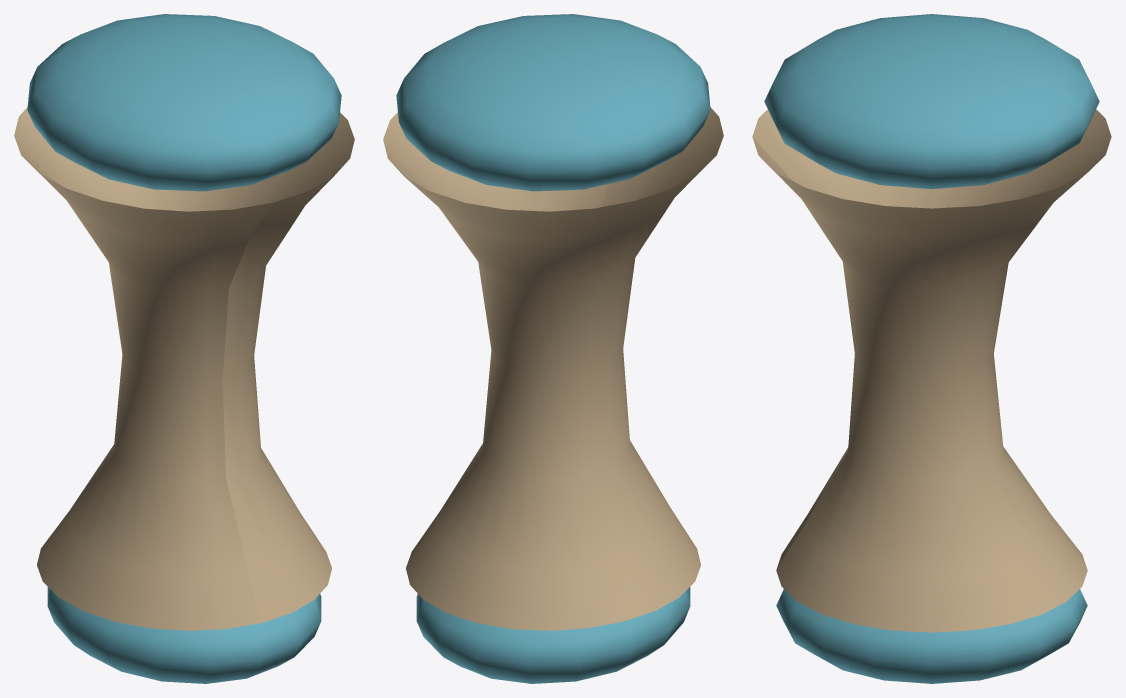
The model's file is left_digit_2_middle.glb.
The picture shows the model from 3 angles, left to right: view 1: azimuth 30°, elevation 25°; view 2: azimuth 150°, elevation 25°; view 3: azimuth 270°, elevation 25°; orthographic projection.
Visible parts, largest first — view 1: left_digit_2_middle:diaphysis, left_digit_2_middle:proximal-envelope, left_digit_2_middle:distal-envelope; view 2: left_digit_2_middle:diaphysis, left_digit_2_middle:proximal-envelope, left_digit_2_middle:distal-envelope; view 3: left_digit_2_middle:diaphysis, left_digit_2_middle:proximal-envelope, left_digit_2_middle:distal-envelope.
Boxes of the visible parts, x1,y1,x2,y2 form: left_digit_2_middle:diaphysis: [14, 107, 354, 630]; left_digit_2_middle:proximal-envelope: [27, 14, 341, 191]; left_digit_2_middle:distal-envelope: [47, 587, 321, 683]; left_digit_2_middle:diaphysis: [383, 107, 723, 630]; left_digit_2_middle:proximal-envelope: [396, 14, 710, 191]; left_digit_2_middle:distal-envelope: [416, 587, 690, 683]; left_digit_2_middle:diaphysis: [752, 109, 1111, 632]; left_digit_2_middle:proximal-envelope: [764, 14, 1099, 189]; left_digit_2_middle:distal-envelope: [776, 589, 1087, 683].
Bounding box in the file's own units: 0.0408 × 0.0816 × 0.0432.
